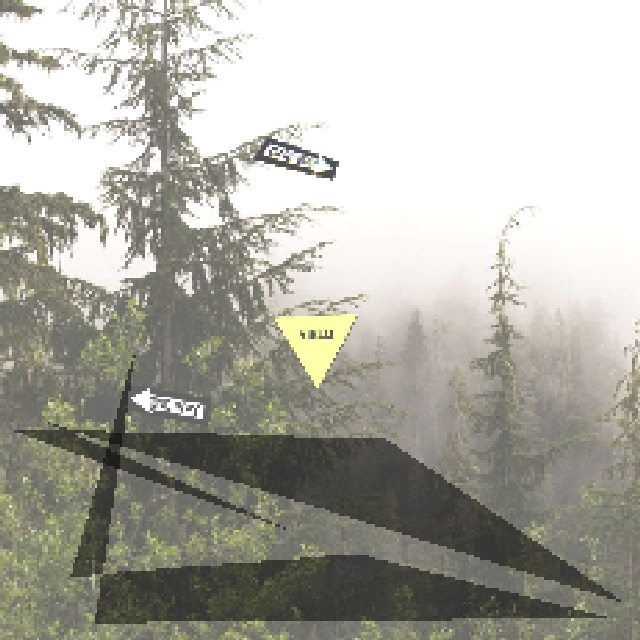ONE_WAY_ left: (122, 381, 209, 425)
ONE_WAY_ right: (250, 134, 337, 178)
YIELD: (270, 312, 357, 389)
